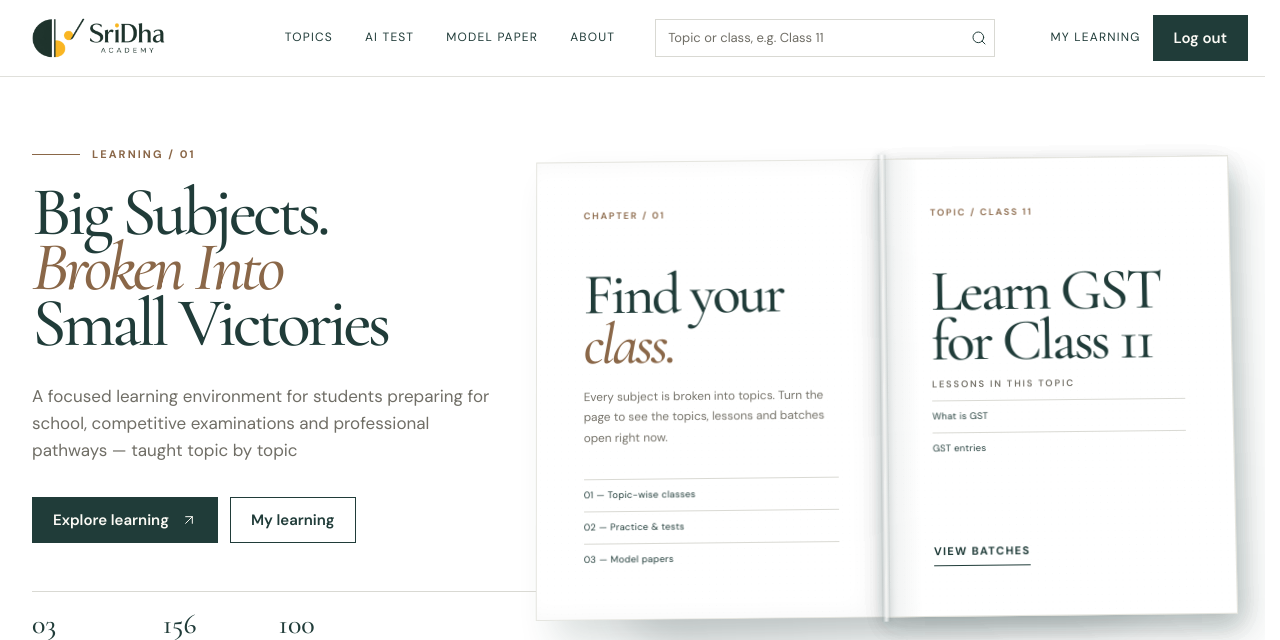
Test: app routing › opens the About page from the header and marks it as the current page
Click the link "About" at (593, 38), box x1=570 y1=28 x2=615 y2=48
(page scrolled)
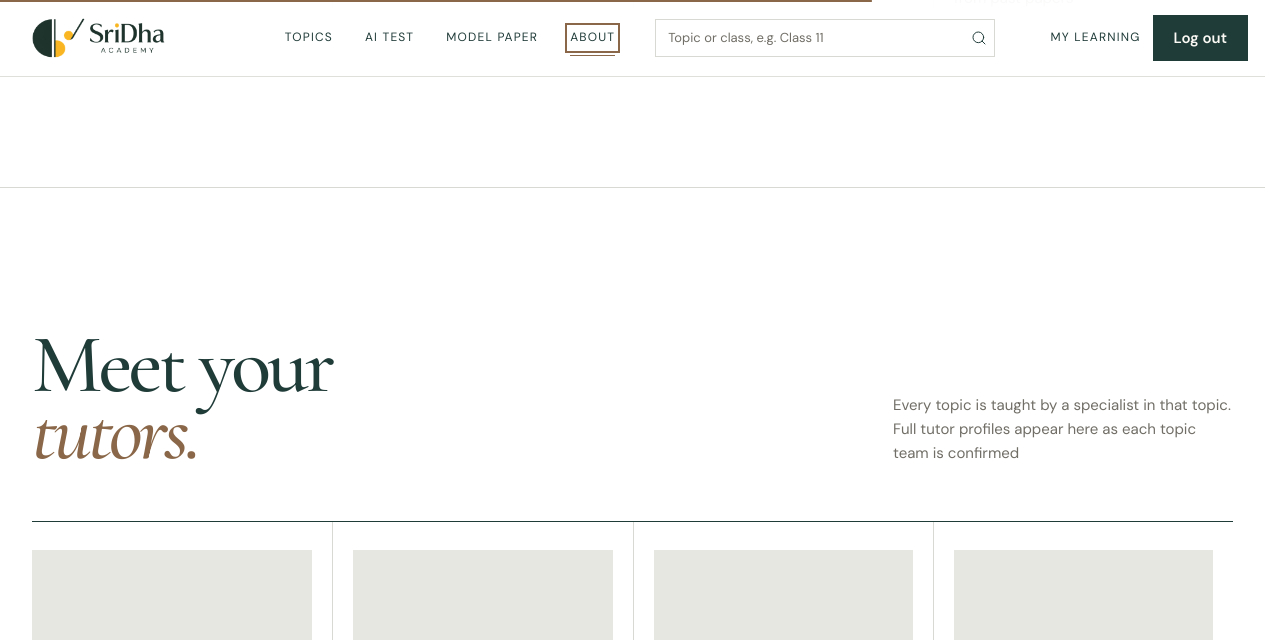
Check: the heading is shown, box x1=32 y1=332 x2=332 y2=465
